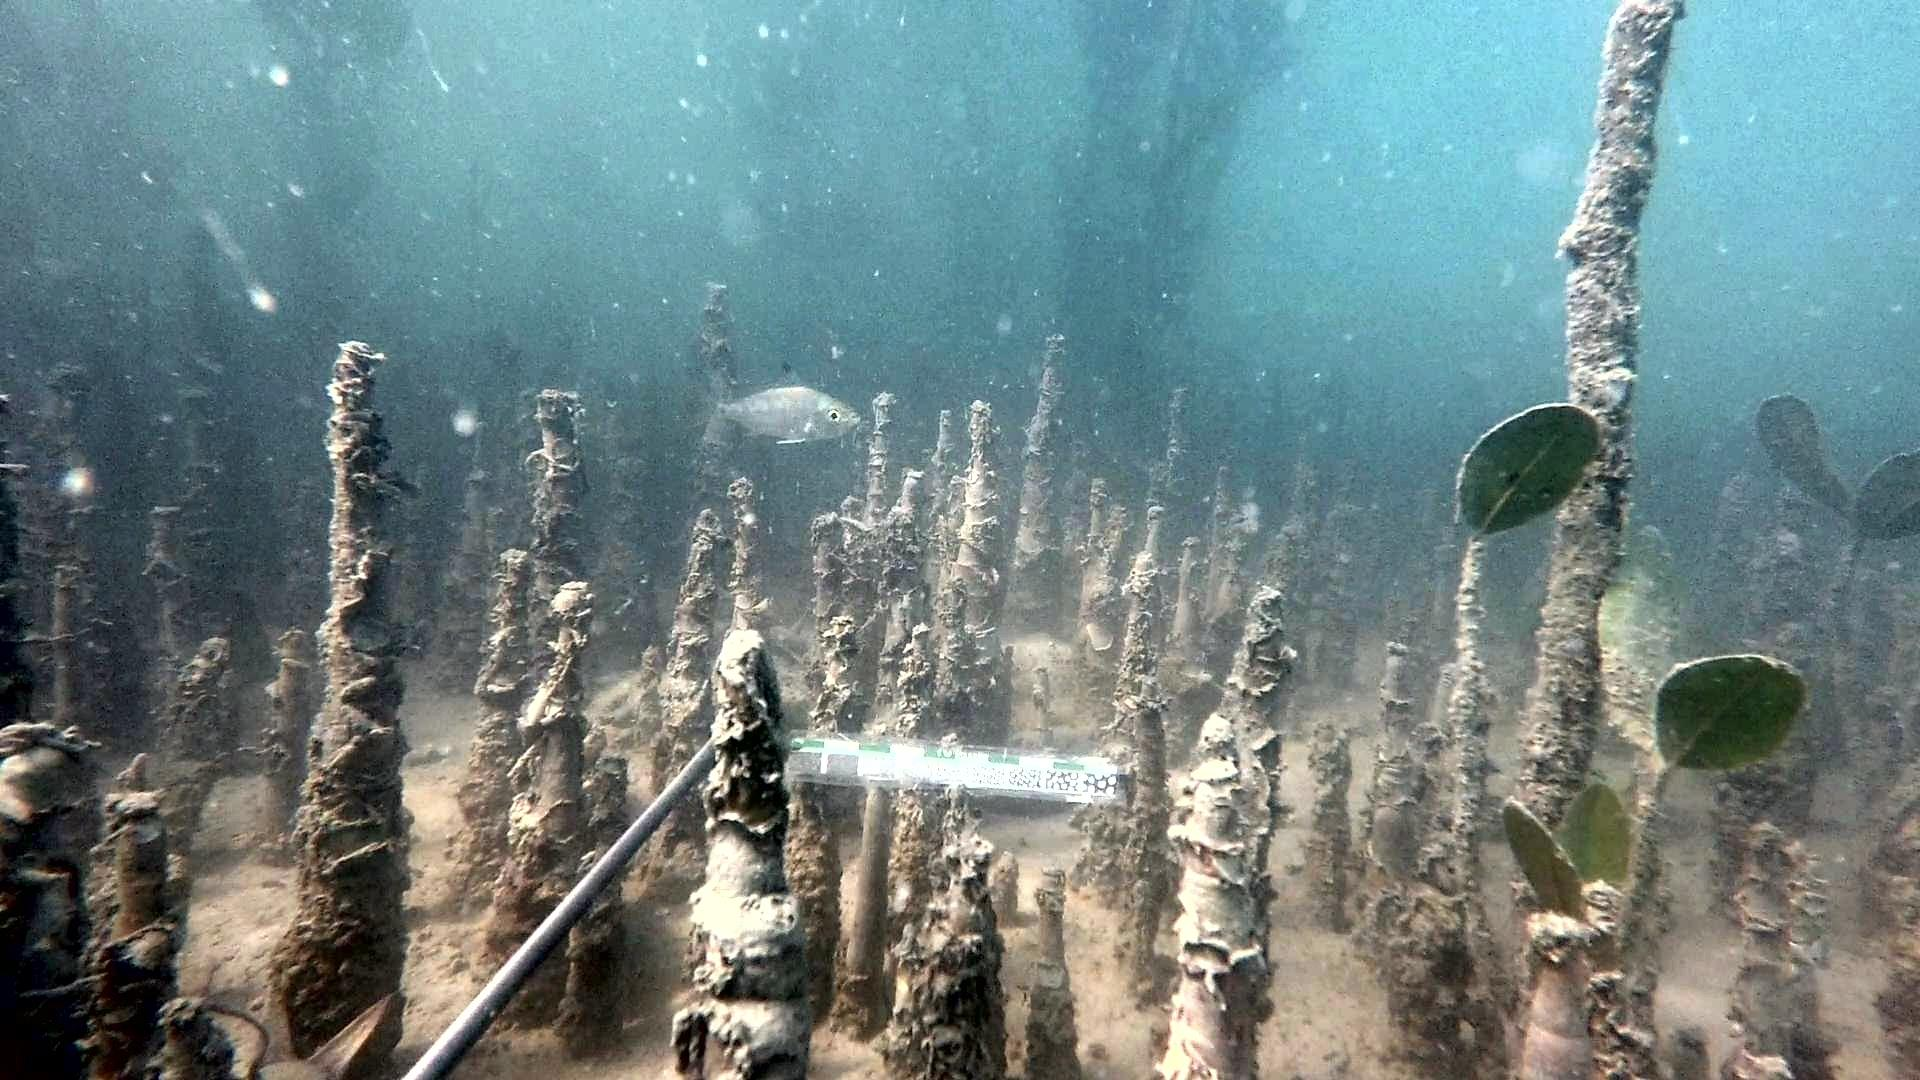gerres: (691, 359, 865, 447)
